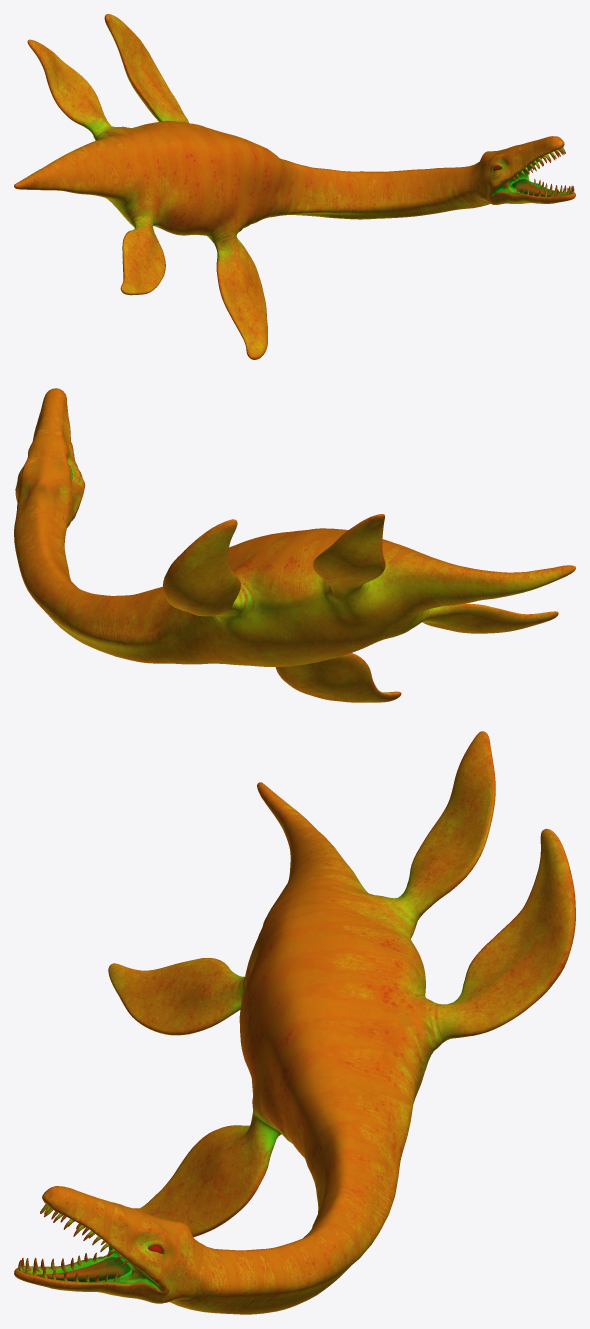
The model's file is Plesiosaurus.glb.
3 views of the same model, one above another, from view 1: azimuth 30°, elevation 25°; view 2: azimuth 150°, elevation 25°; view 3: azimuth 270°, elevation 25° (orthographic). The views are drawn at different scales.
Visible parts, largest first — view 1: plesiosaurus.1; view 2: plesiosaurus.1; view 3: plesiosaurus.1.
Part boxes in pixels (<box>): plesiosaurus.1: <box>14,14,575,359</box>; plesiosaurus.1: <box>14,388,575,702</box>; plesiosaurus.1: <box>14,731,575,1314</box>.
Bounding box in the file's own units: 0.4692 × 0.2408 × 0.2947.
Materials: 1 (1 with a texture image).
